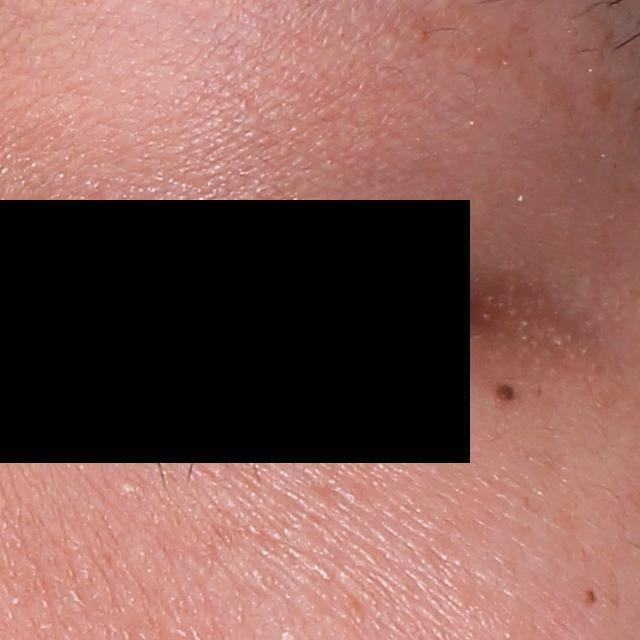comedo: (118, 476, 145, 500)
nevus: (489, 379, 523, 406), (583, 583, 603, 607)
